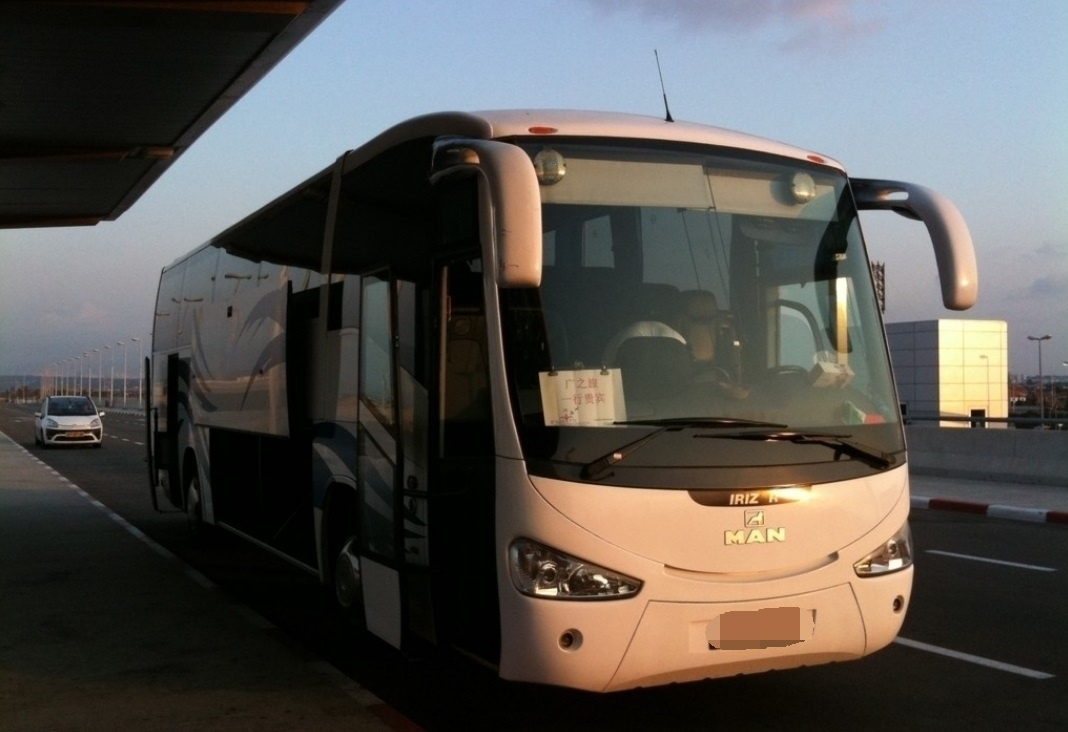bus: (141, 96, 966, 703)
